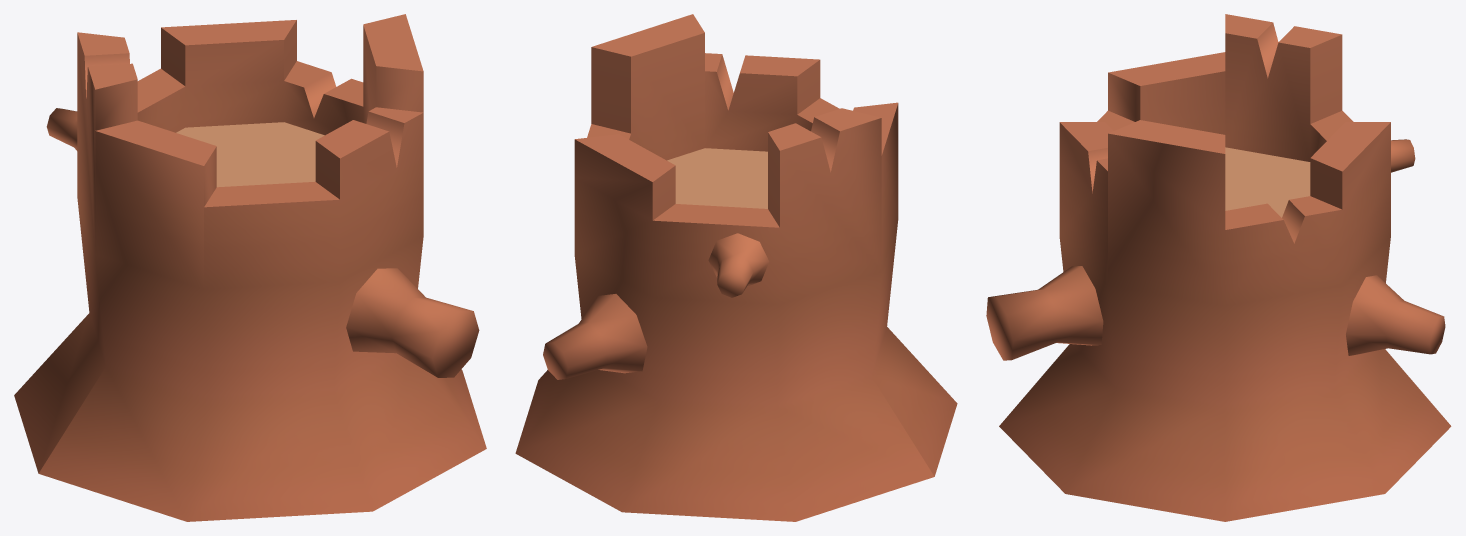
File: trunk.glb
The picture shows the model from 3 angles, left to right: view 1: azimuth 30°, elevation 25°; view 2: azimuth 150°, elevation 25°; view 3: azimuth 270°, elevation 25°; orthographic projection. The views are drawn at different scales.
Visible parts, largest first — view 1: trunk; view 2: trunk; view 3: trunk.
Part boxes in pixels (x1,y1,x2,y2): trunk: [14, 14, 486, 521]; trunk: [515, 14, 957, 521]; trunk: [986, 14, 1451, 521].
Bounding box in the file's own units: 0.5393 × 0.45 × 0.5542.
1 material, 1 textured.
